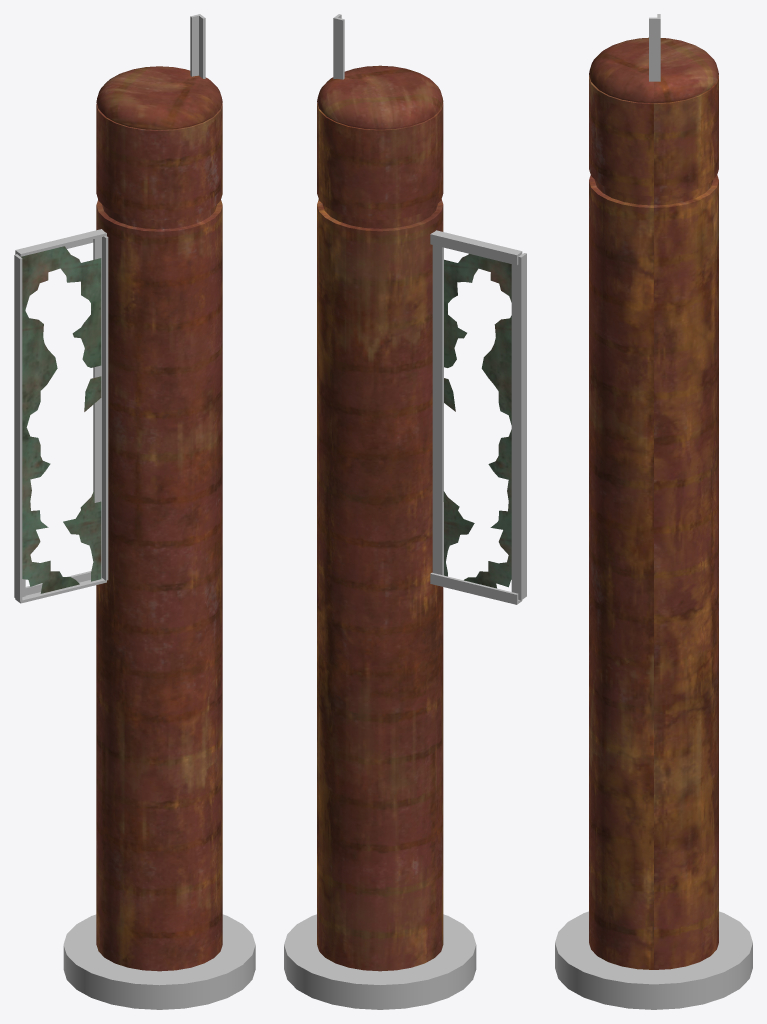
The model's file is Component_PillarA_grp.fbx.
The picture shows the model from 3 angles, left to right: view 1: azimuth 30°, elevation 25°; view 2: azimuth 150°, elevation 25°; view 3: azimuth 270°, elevation 25°; orthographic projection. The views are drawn at different scales.
Parts seen in each view (by area): view 1: pillarA_shipHull, pillarA_containerGreen, pillarA_concreteBricks, pillarA_metalRust; view 2: pillarA_shipHull, pillarA_metalRust, pillarA_concreteBricks, pillarA_containerGreen; view 3: pillarA_shipHull, pillarA_concreteBricks, pillarA_metalRust.
Part boxes in pixels (left/top/right/bottom): pillarA_shipHull: left=96, top=66, right=222, bottom=971; pillarA_containerGreen: left=21, top=246, right=101, bottom=593; pillarA_concreteBricks: left=63, top=914, right=255, bottom=1009; pillarA_metalRust: left=14, top=14, right=205, bottom=603; pillarA_shipHull: left=317, top=65, right=443, bottom=971; pillarA_metalRust: left=333, top=14, right=526, bottom=604; pillarA_concreteBricks: left=284, top=914, right=476, bottom=1009; pillarA_containerGreen: left=443, top=254, right=511, bottom=588; pillarA_shipHull: left=589, top=37, right=718, bottom=969; pillarA_concreteBricks: left=555, top=911, right=752, bottom=1009; pillarA_metalRust: left=649, top=14, right=660, bottom=81.
Bounding box in the file's own units: 296 × 1176 × 217.
